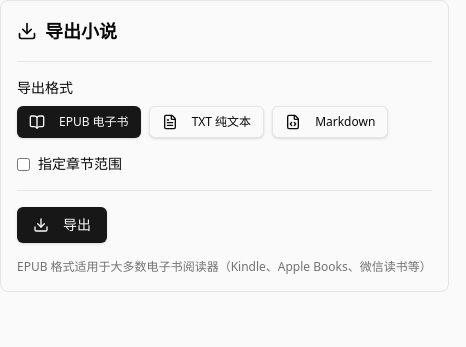
Test: ExportPanel › hides range inputs when toggle unchecked
The image size is (466, 347).
// Toggle on then off
Click the checkbox with test id "range-toggle". click: {"x": 24, "y": 164}
box: [17,158,30,170]
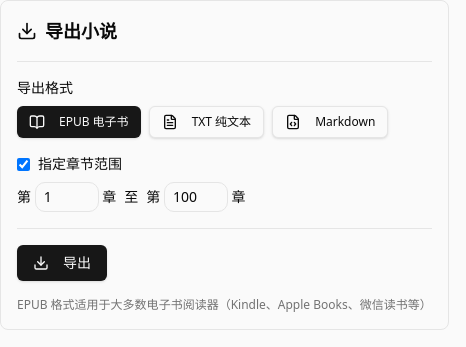
expect the number field with test id "start-chapter" is shown: met, box [35,182,99,212]
Click the checkbox with test id "range-toggle". click: {"x": 24, "y": 164}
box: [17,158,30,170]
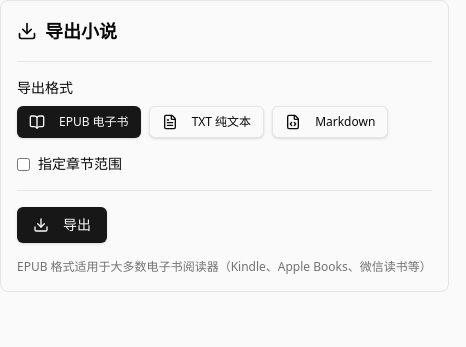
expect the number field with test id "start-chapter" is gone: met
